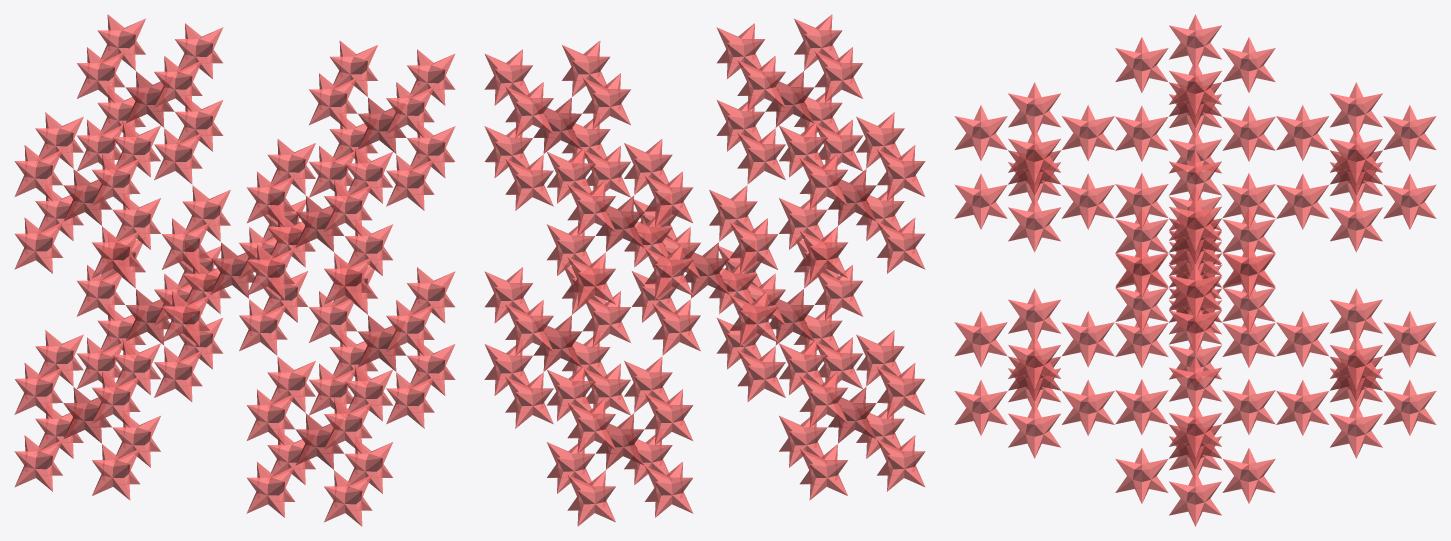
Rendered from fractalgreatdisdyakisdodecahedron2.glb.
3 renders of one model, left to right at view 1: azimuth 30°, elevation 25°; view 2: azimuth 150°, elevation 25°; view 3: azimuth 270°, elevation 25°, orthographic. The views are drawn at different scales.
Bounding box in the file's own units: 10.37 × 7.34 × 10.37.
